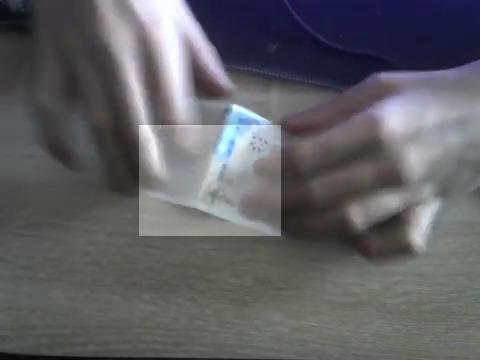20leva: (139, 125, 281, 236)
